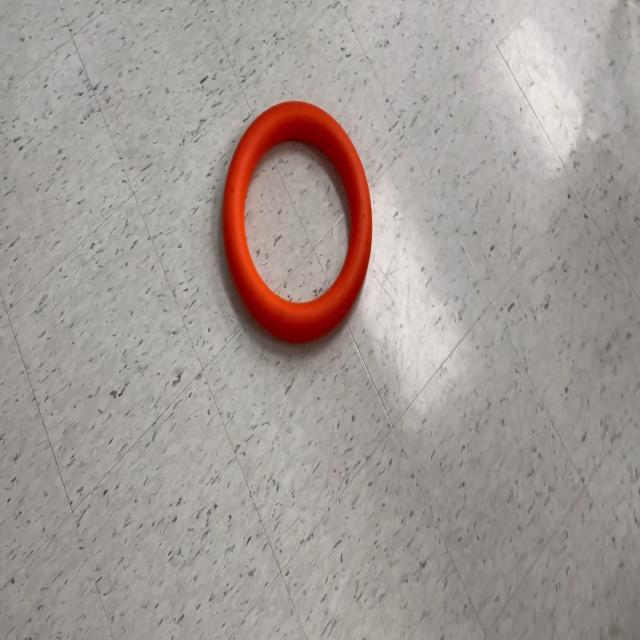note: (221, 100, 374, 346)
